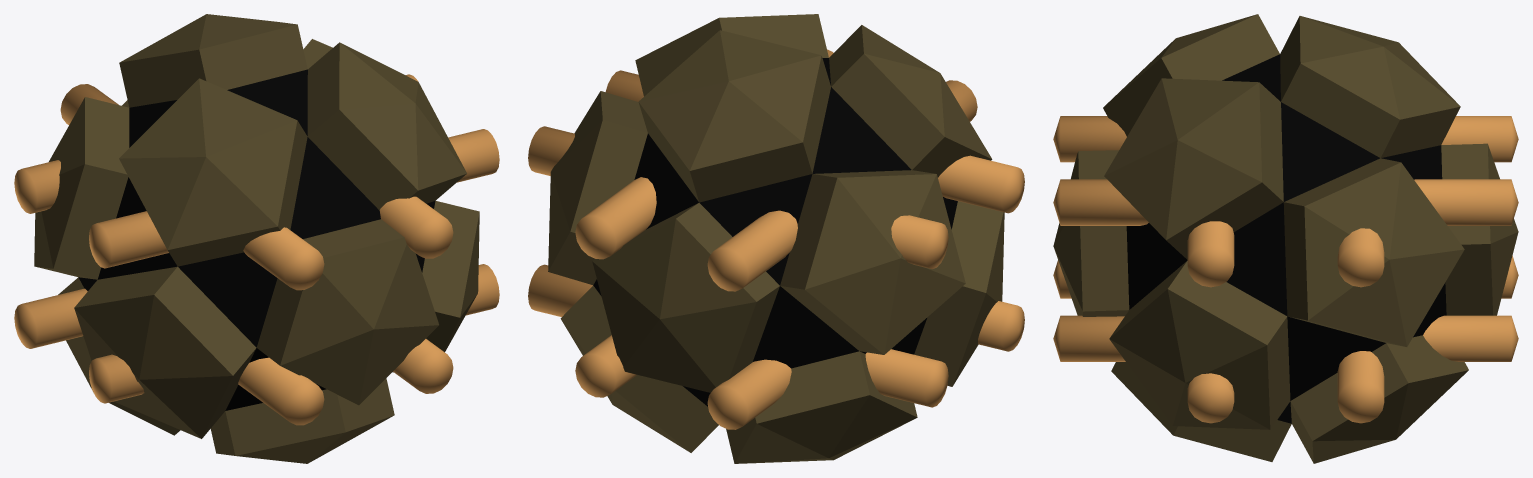
File: BlackHole.Med.01.fbx
3 views of the same model, side by side, from view 1: azimuth 30°, elevation 25°; view 2: azimuth 150°, elevation 25°; view 3: azimuth 270°, elevation 25° (orthographic). The views are drawn at different scales.
Parts seen in each view (by area): view 1: B.BH.Med.01; view 2: B.BH.Med.01; view 3: B.BH.Med.01.
Boxes of the visible parts, bbox=[...] form: B.BH.Med.01: bbox=[14, 14, 499, 463]; B.BH.Med.01: bbox=[528, 14, 1024, 463]; B.BH.Med.01: bbox=[1053, 14, 1518, 463].
Bounding box in the file's own units: 157 × 148 × 157.
